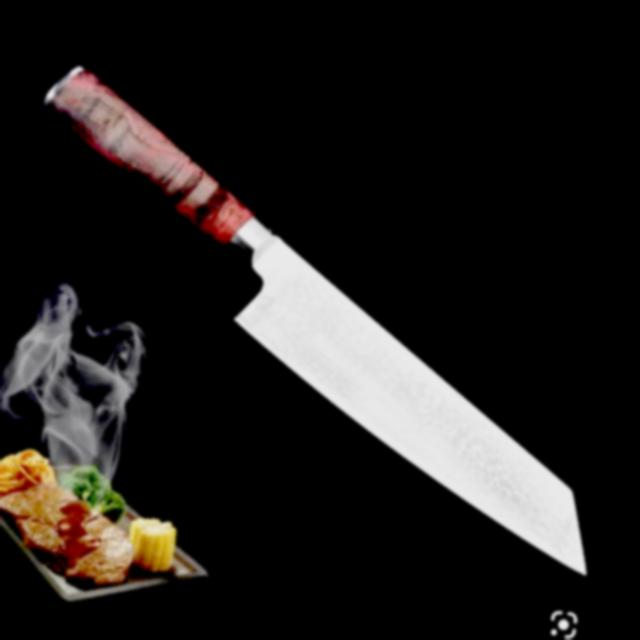knife: (29, 47, 608, 595)
